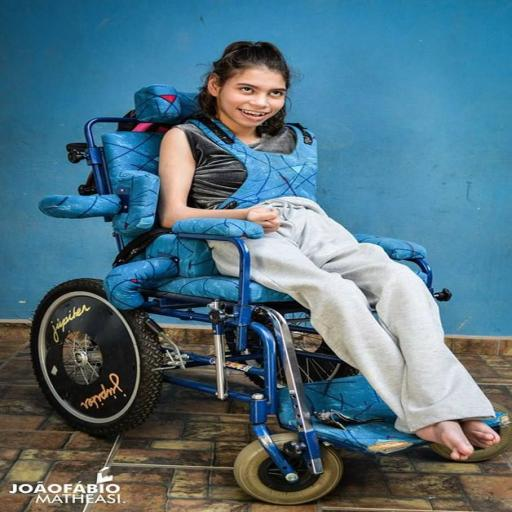laptop: (159, 42, 499, 459)
wheelchair: (31, 86, 428, 503)
